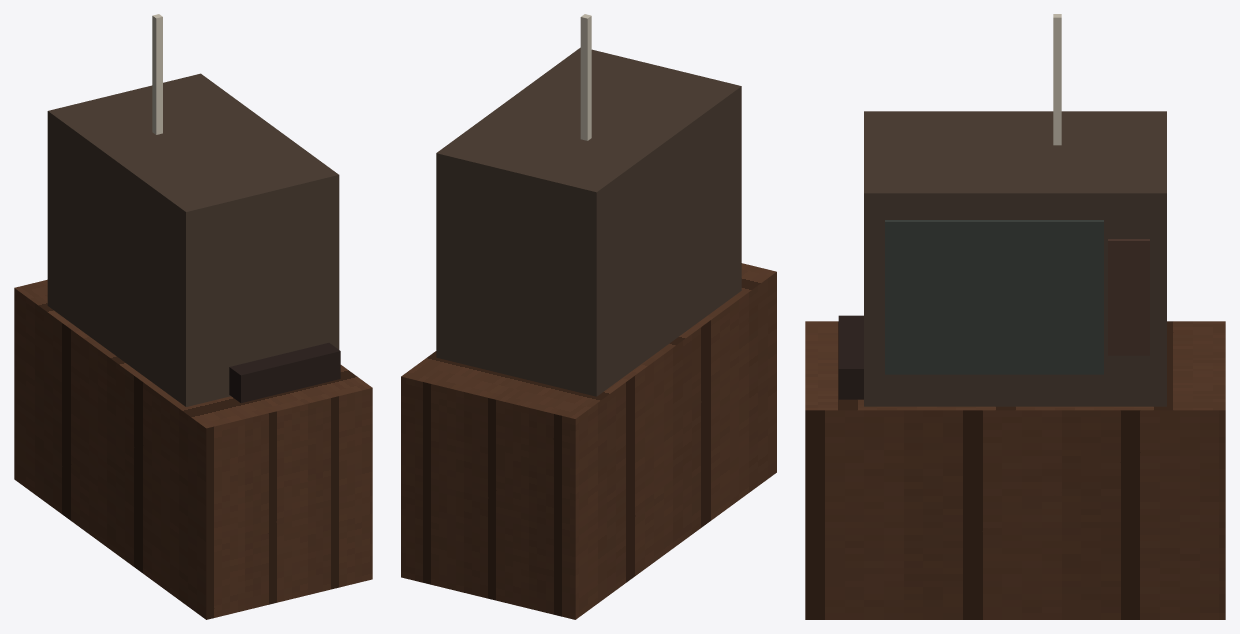
3 renders of one model, left to right at view 1: azimuth 30°, elevation 25°; view 2: azimuth 150°, elevation 25°; view 3: azimuth 270°, elevation 25°, orthographic. The views are drawn at different scales.
Visible parts, largest first — view 1: Box2, Box1, Box6, Box5; view 2: Box2, Box1, Box5; view 3: Box1, Box2, Box3, Box4, Box6, Box5.
Part boxes in pixels (box(x1,y1,x2,y2)): Box2: box(47, 73, 339, 406); Box1: box(14, 279, 372, 619); Box6: box(229, 343, 340, 403); Box5: box(152, 14, 162, 134); Box2: box(436, 47, 741, 396); Box1: box(401, 263, 776, 619); Box5: box(580, 14, 591, 140); Box1: box(805, 321, 1225, 619); Box2: box(864, 111, 1166, 406); Box3: box(885, 220, 1103, 374); Box4: box(1108, 239, 1149, 355); Box6: box(838, 315, 863, 399); Box5: box(1053, 14, 1061, 145).
Size of the model in its own units: 0.5 by 1.44 by 1.
Materials: 6 (1 with a texture image).
